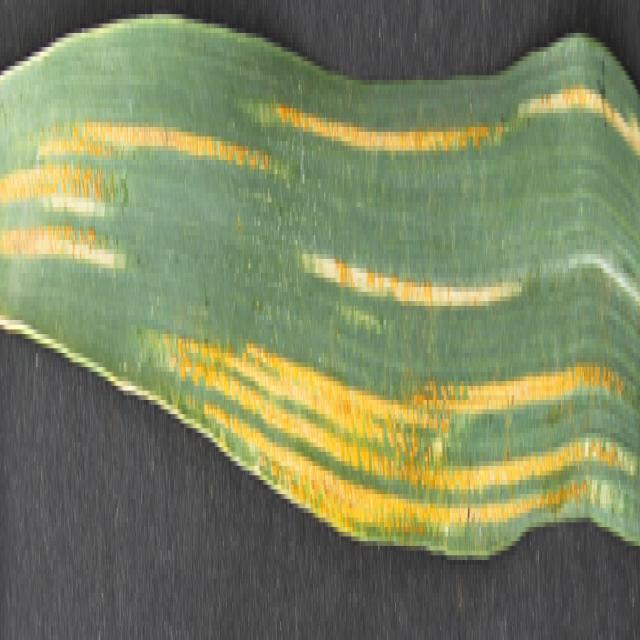leaf rust: (1, 9, 640, 532)
